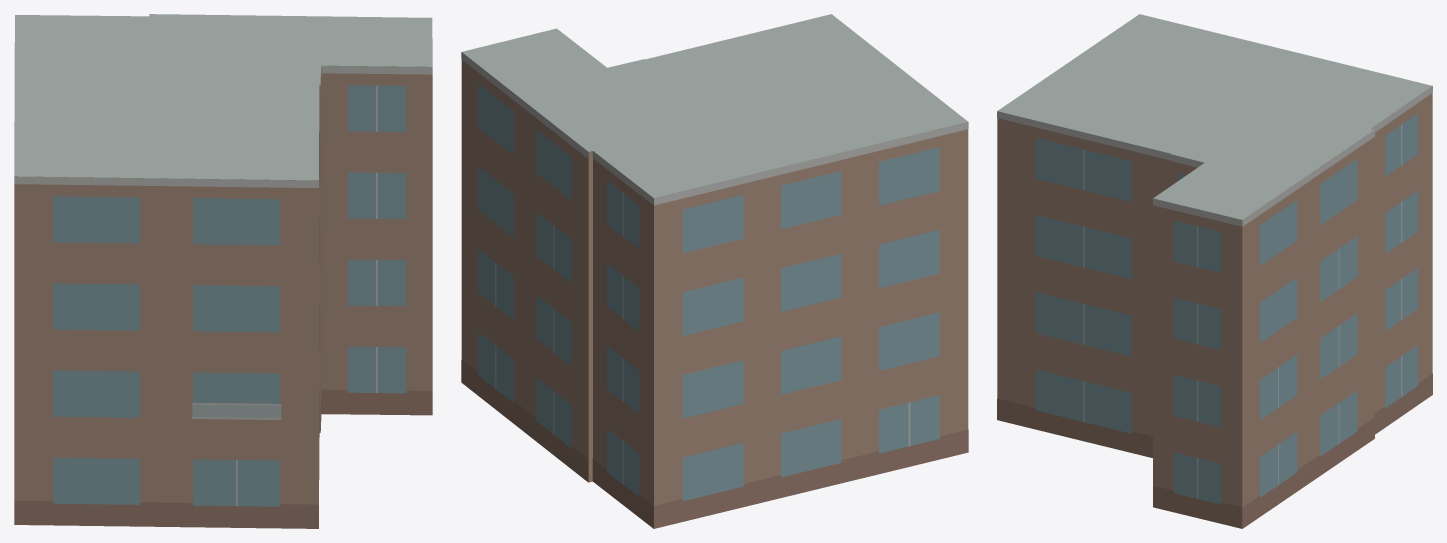
Rendered from survey-upis-32660328.glb.
3 views of the same model, side by side, from view 1: azimuth 30°, elevation 25°; view 2: azimuth 150°, elevation 25°; view 3: azimuth 270°, elevation 25° (orthographic). The views are drawn at different scales.
Parts seen in each view (by area): view 1: survey-upis-32660328.tmp; view 2: survey-upis-32660328.tmp; view 3: survey-upis-32660328.tmp.
Boxes of the visible parts, <box> form: survey-upis-32660328.tmp: <box>14,14,432,528</box>; survey-upis-32660328.tmp: <box>461,14,968,528</box>; survey-upis-32660328.tmp: <box>997,14,1432,528</box>.
Size of the model in its own units: 15.74 by 11 by 14.07.
